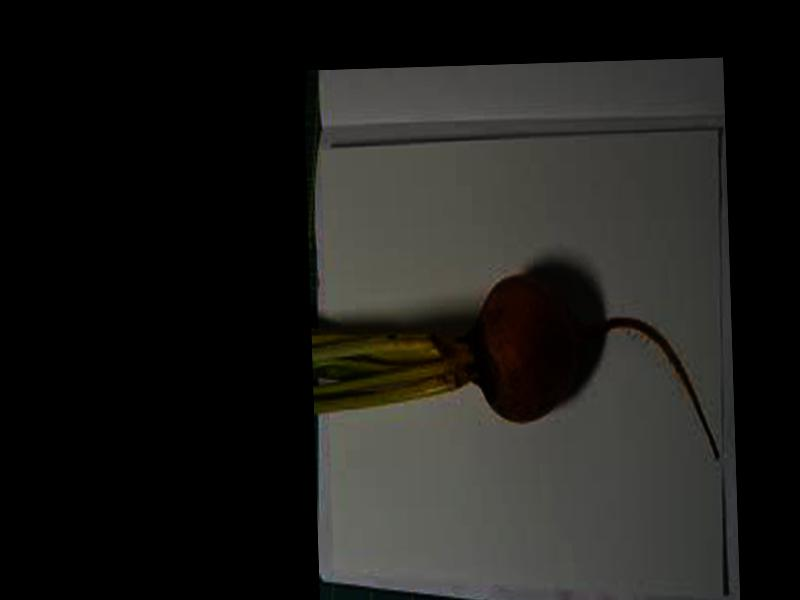Beet: (314, 270, 719, 470)
